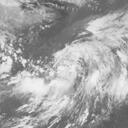cyclone: (33, 41, 115, 109)
